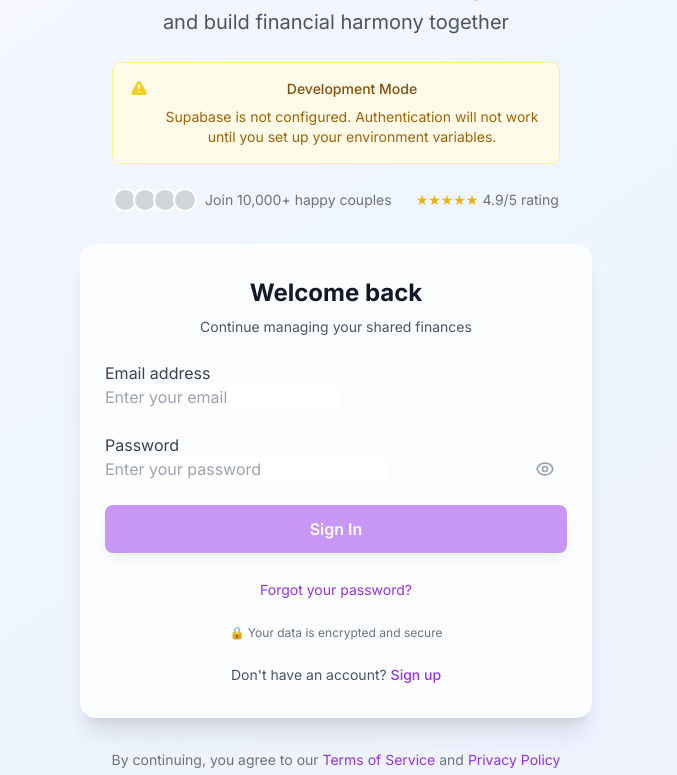
Test: LoginForm › Form Validation › validates password length for signup
(page scrolled)
Switch to signup mode
Step 1. Click the button "Sign up" → (416, 675), box left=391, top=665, right=441, bottom=685
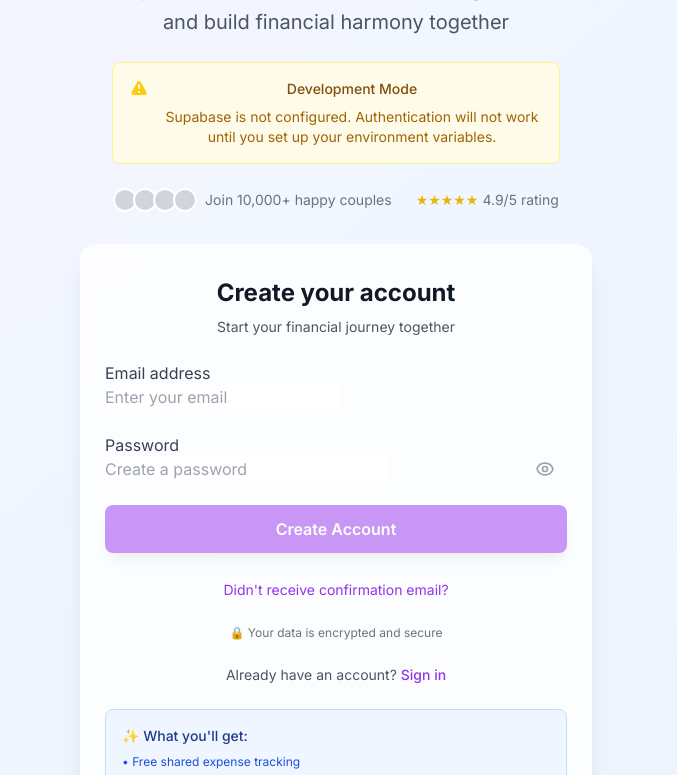
Step 2. Type "test@example.com" into the field labelled "Email address" → (222, 397), box left=105, top=385, right=339, bottom=409
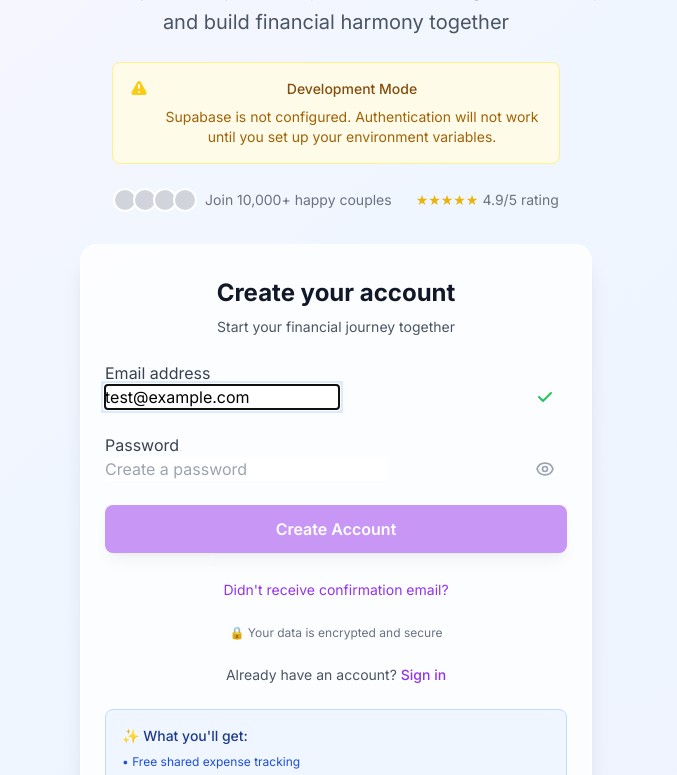
Step 3. Type "short" into the password field with placeholder "Create a password" → (246, 469), box left=105, top=457, right=387, bottom=481
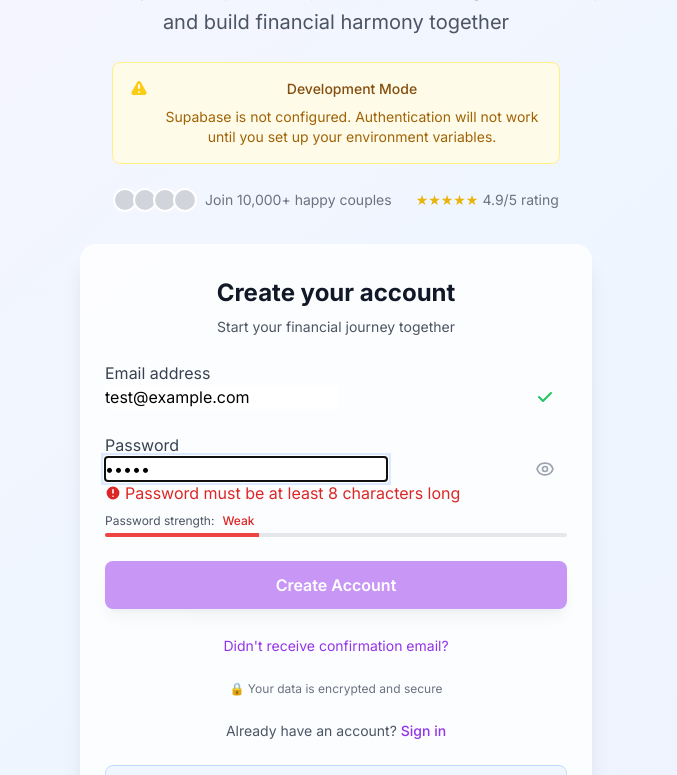
Check: the text "Password must be at least 8 characters long" is shown, box left=105, top=483, right=460, bottom=503
Check: the text "Weak" is shown, box left=222, top=513, right=254, bottom=529
